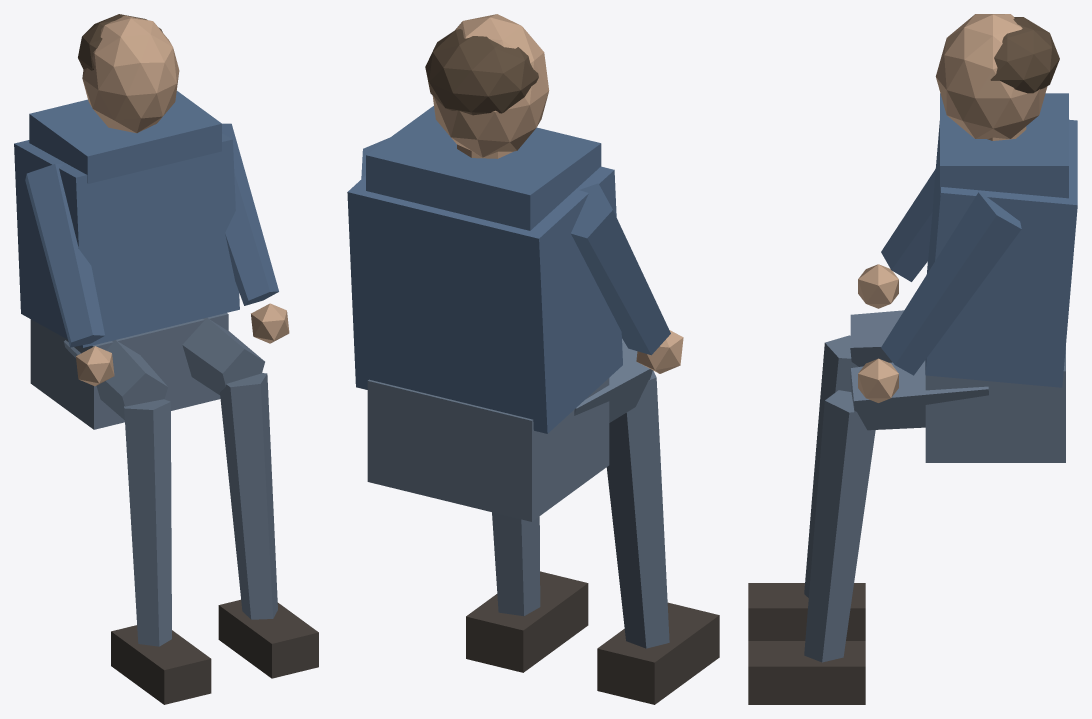
File: spectator_child.glb
3 views of the same model, side by side, from view 1: azimuth 30°, elevation 25°; view 2: azimuth 150°, elevation 25°; view 3: azimuth 270°, elevation 25° (orthographic). The views are drawn at different scales.
Parts seen in each view (by area): view 1: spectator_child; view 2: spectator_child; view 3: spectator_child.
Part boxes in pixels (bbox=[...]): spectator_child: bbox=[14, 14, 318, 704]; spectator_child: bbox=[347, 14, 719, 704]; spectator_child: bbox=[748, 14, 1077, 704].
Bounding box in the file's own units: 0.3349 × 0.8999 × 0.4144.
